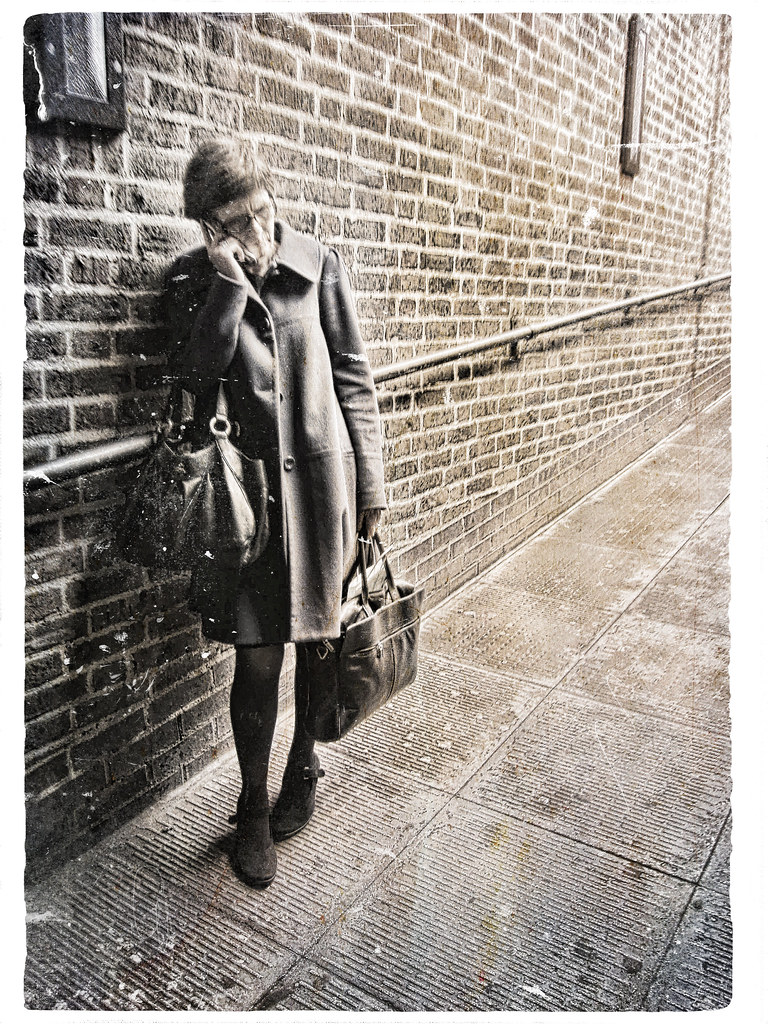phone: (186, 223, 246, 275)
